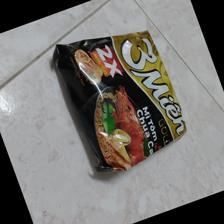3mien: (52, 30, 188, 173)
